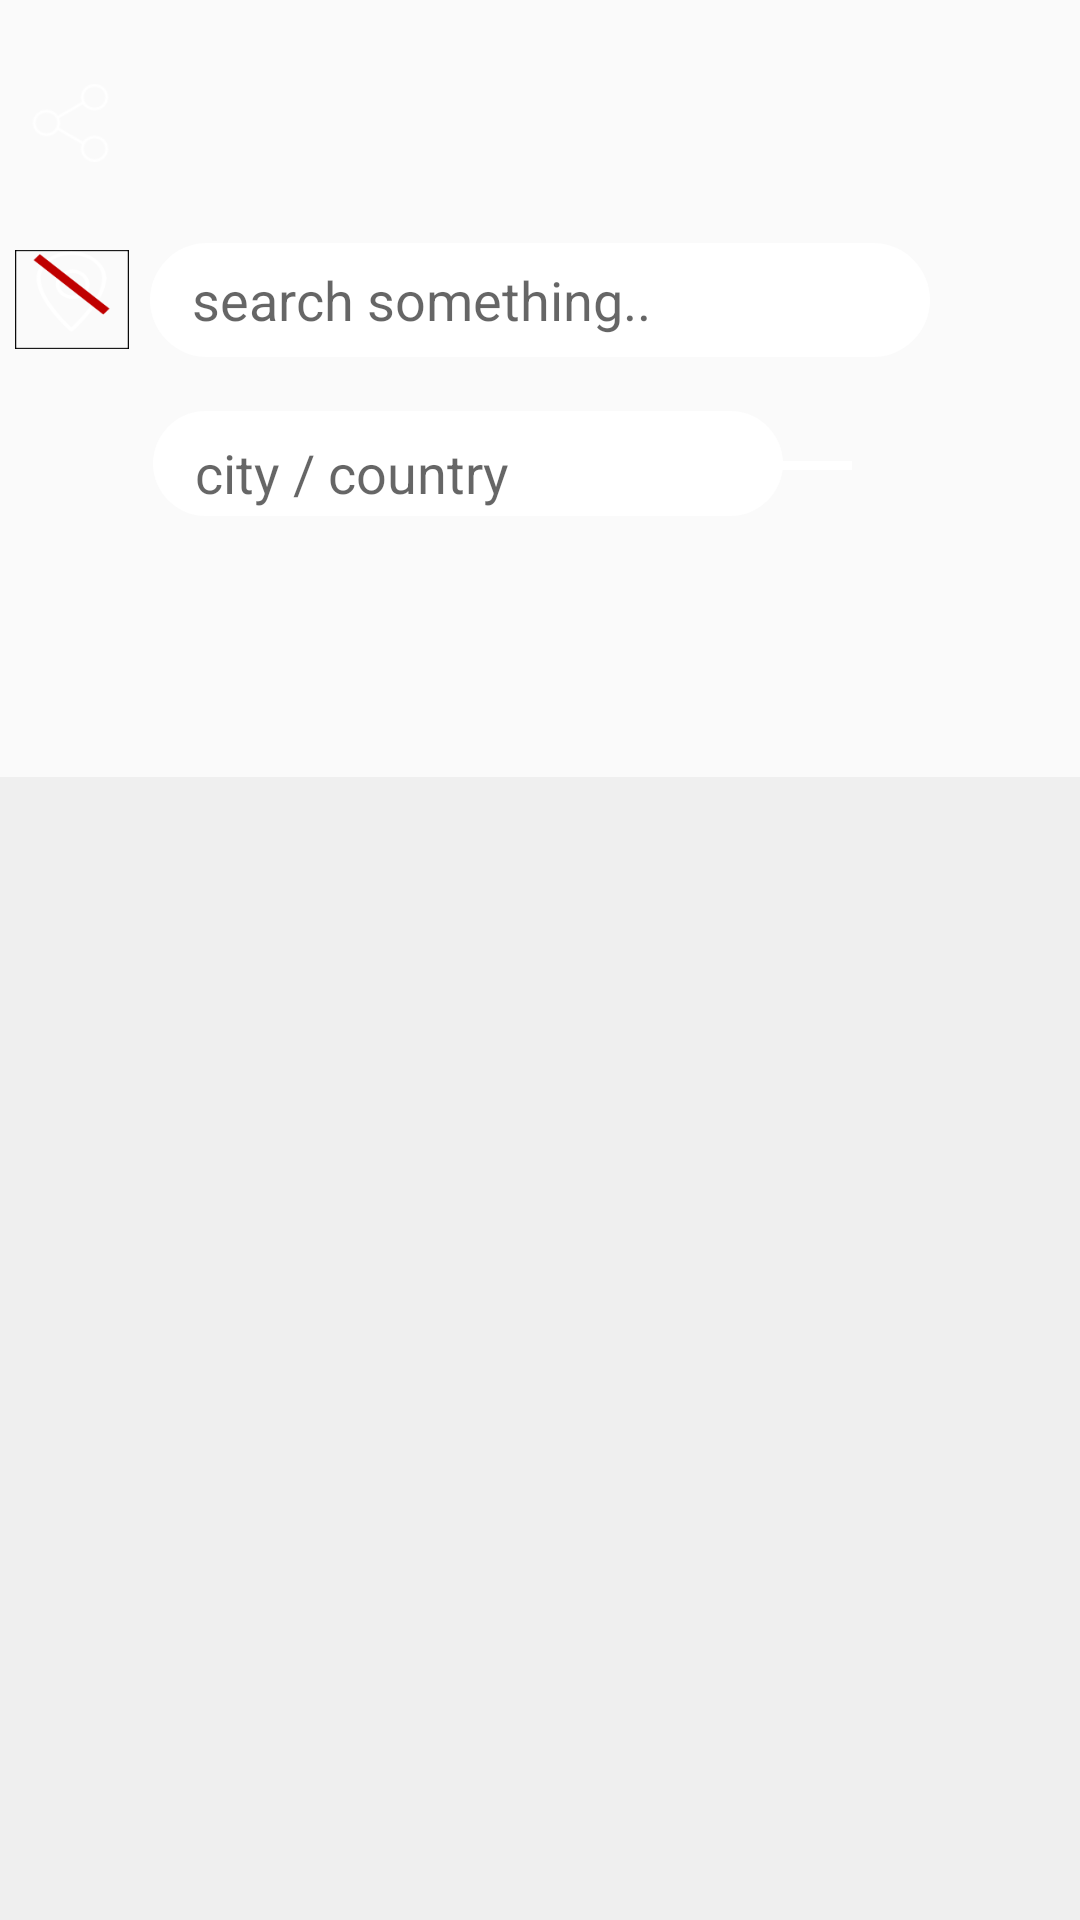

Screen size 1080*1920. Icon name, then its center in pixels as [x,y]:
not location: [72,299]
